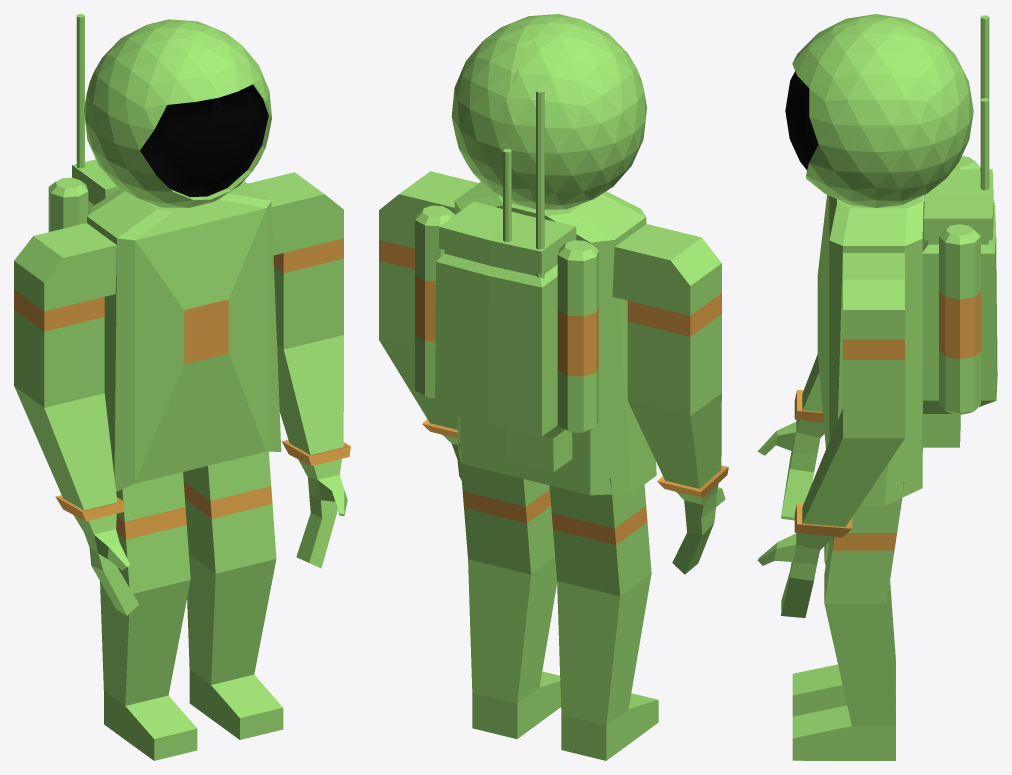
Rendered from Astronaut_Lime.fbx.
The picture shows the model from 3 angles, left to right: view 1: azimuth 30°, elevation 25°; view 2: azimuth 150°, elevation 25°; view 3: azimuth 270°, elevation 25°; orthographic projection. The views are drawn at different scales.
Parts seen in each view (by area): view 1: Cube, Icosphere; view 2: Cube, Icosphere; view 3: Cube, Icosphere.
Part boxes in pixels (x1,y1,x2,y2): Cube: (14, 14, 350, 760); Icosphere: (84, 19, 271, 207); Cube: (379, 89, 728, 760); Icosphere: (451, 14, 646, 209); Cube: (757, 15, 997, 760); Icosphere: (785, 14, 973, 207).
Size of the model in its own units: 303 by 665 by 205.
